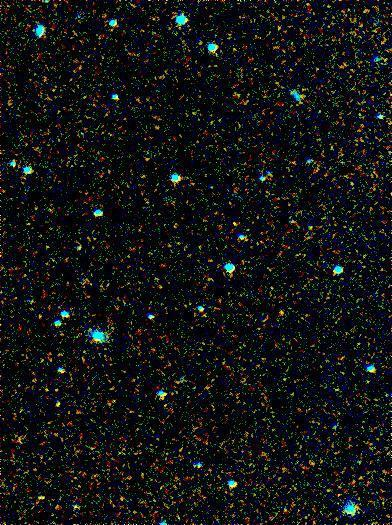star: (221, 212, 251, 242)
